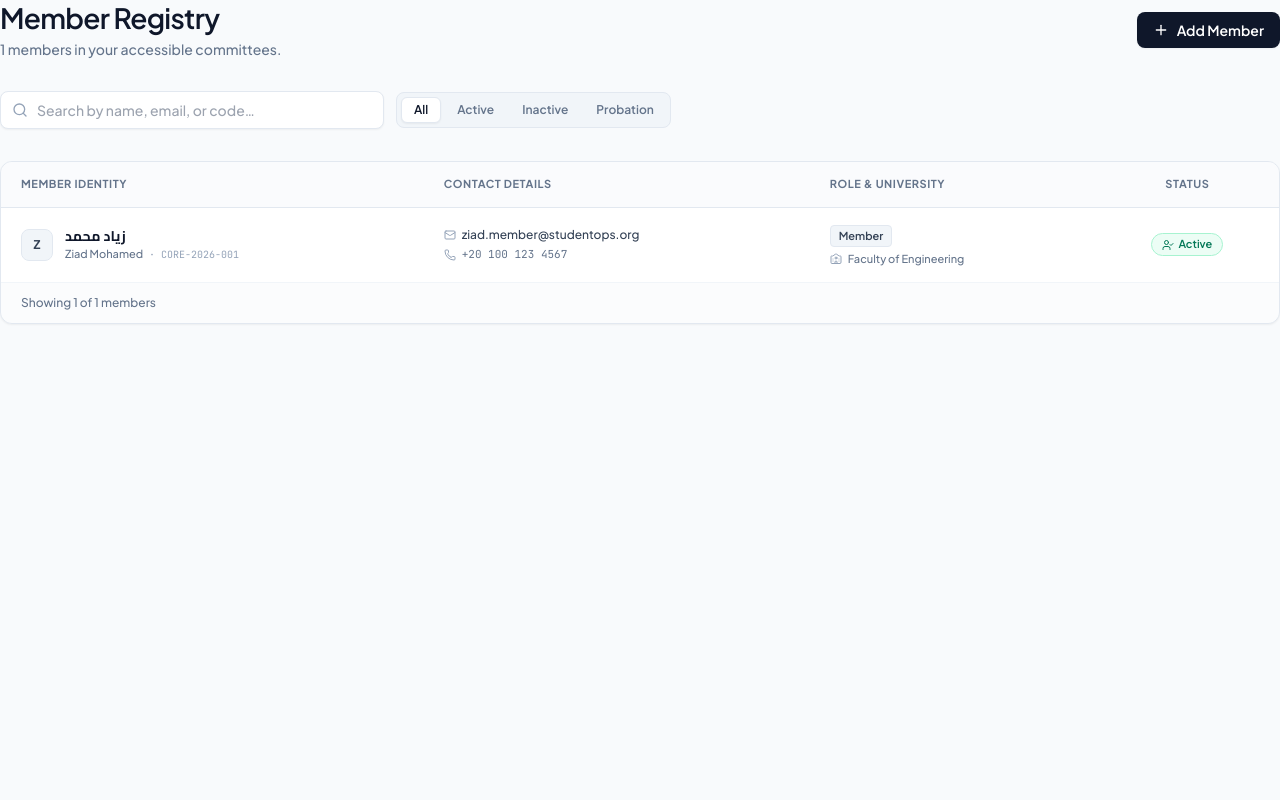
Test: StudentsPage & Add Member Modal › opens Enroll New Member modal on clicking Add Member
This screenshot has width=1280, height=800.
Check: the heading "Member Registry" is shown, box [0, 0, 219, 35]
Click the button "Add Member" at {"x": 1208, "y": 30}, box [1137, 12, 1279, 48]
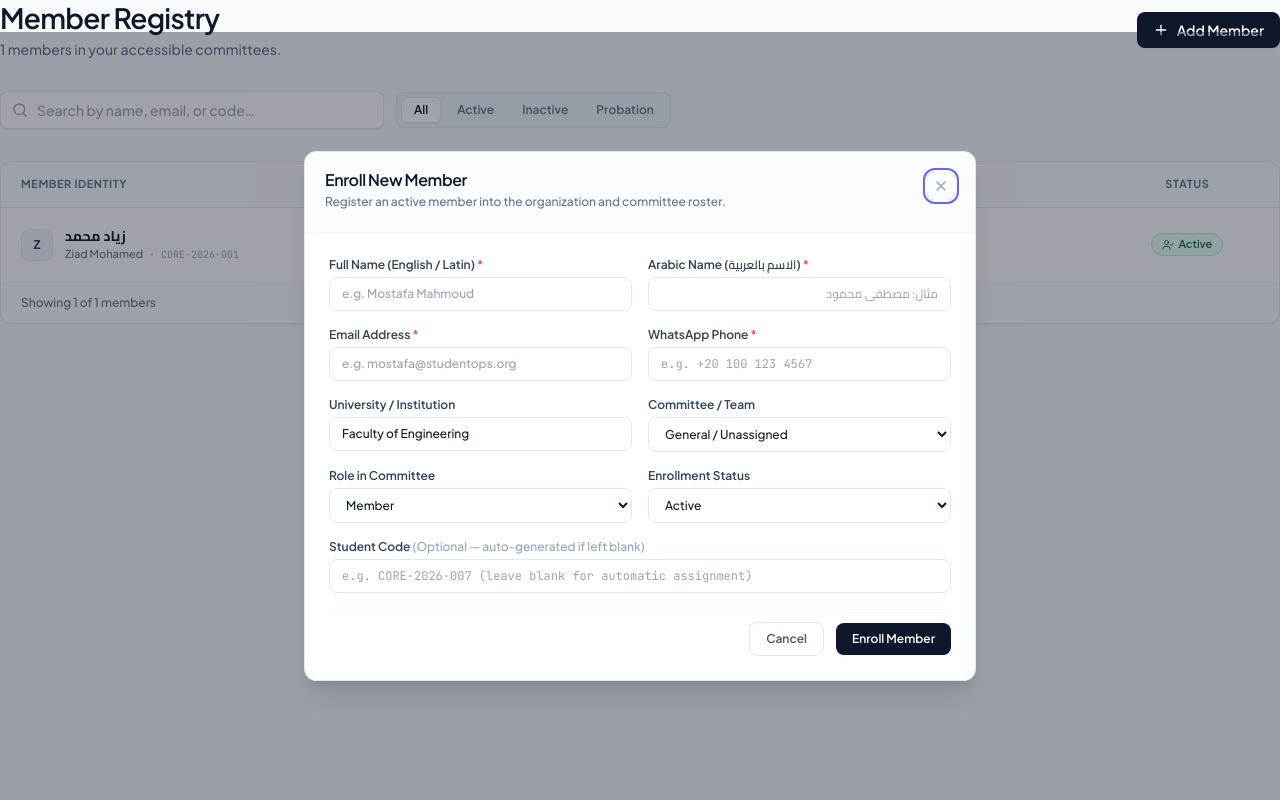
Check: the heading "Enroll New Member" is shown, box [325, 169, 467, 190]
Check: the field with placeholder "e.g. Mostafa Mahmoud" is shown, box [329, 277, 632, 311]
Check: the field with placeholder "مثال: مصطفى محمود" is shown, box [648, 277, 951, 311]
